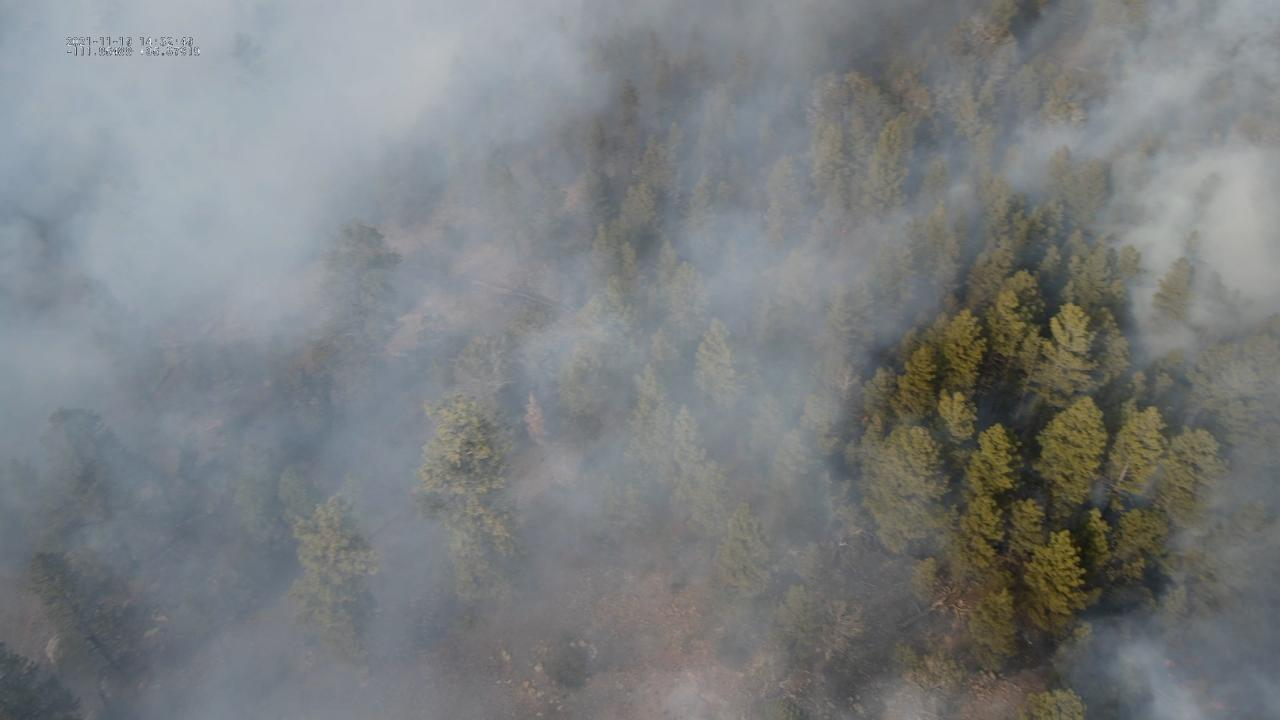fire: (1160, 657, 1177, 670)
smoke: (0, 0, 1280, 720)
